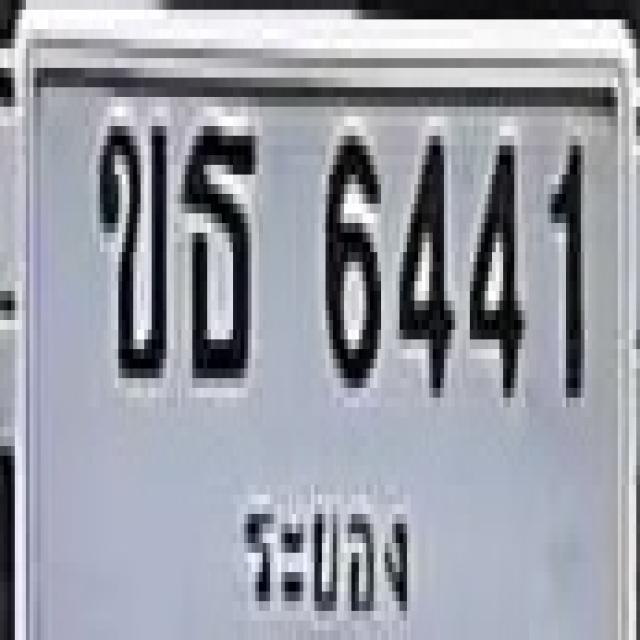-: (182, 112, 256, 374), (96, 116, 163, 368)
1: (548, 136, 577, 388)
4: (396, 126, 448, 388), (466, 136, 518, 388)
6: (322, 126, 377, 378)
RYG: (230, 465, 426, 640)
